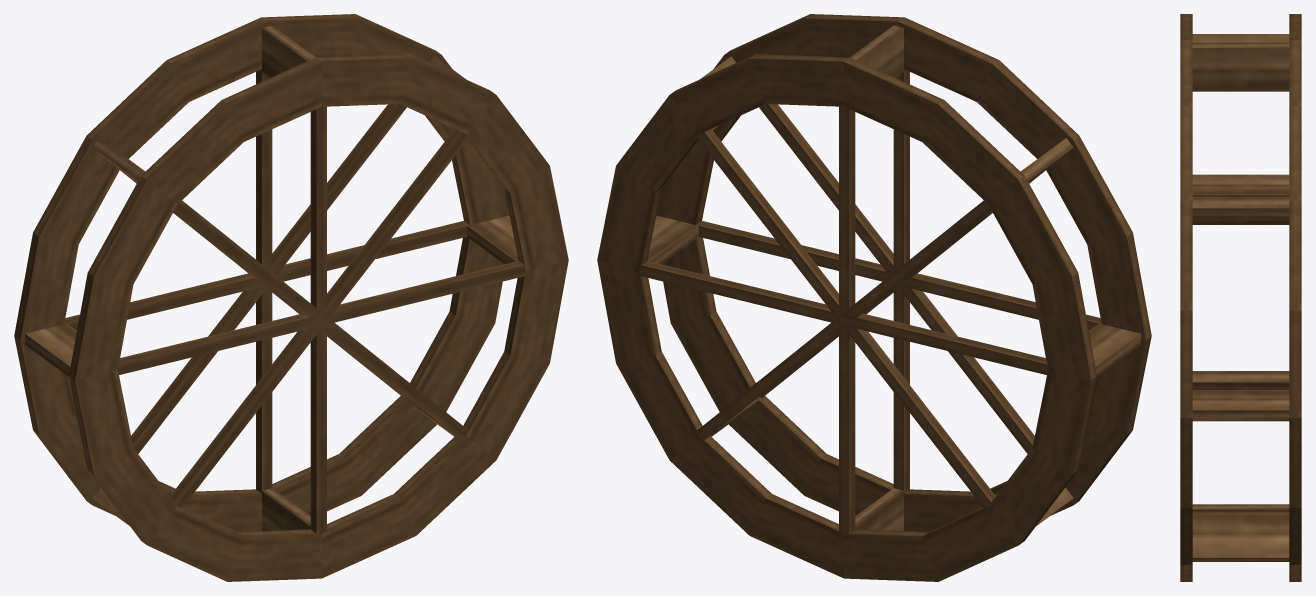
File: waterwheel.glb
The picture shows the model from 3 angles, left to right: view 1: azimuth 30°, elevation 25°; view 2: azimuth 150°, elevation 25°; view 3: azimuth 270°, elevation 25°; orthographic projection.
Parts seen in each view (by area): view 1: rim.009, rim.011, rim.006, rim.010, rim, rim.014, rim.005, rim.015, rim.012, rim.002, rim.004, rim.001 (+23 smaller); view 2: rim.010, rim.014, rim.004, rim.009, rim.001, rim.011, rim.008, rim.013, rim.007, rim.003, rim.006, rim (+23 smaller); view 3: blade, blade.002, blade.007, rim.007, rim.012, blade.004, blade.003, rim.013, rim.015, rim.004, rim.006, blade.005 (+6 smaller).
Part boxes in pixels (left/top/right/bottom): rim.009: left=69, top=176, right=177, bottom=380; rim.011: left=141, top=57, right=321, bottom=204; rim.006: left=463, top=260, right=568, bottom=459; rim.010: left=14, top=136, right=119, bottom=340; rim: left=322, top=436, right=496, bottom=578; rim.014: left=86, top=17, right=267, bottom=158; rim.005: left=69, top=370, right=177, bottom=545; rim.015: left=316, top=54, right=495, bottom=133; rim.012: left=466, top=95, right=568, bottom=270; rim.002: left=147, top=506, right=321, bottom=581; rim.004: left=410, top=237, right=503, bottom=411; rim.001: left=272, top=396, right=436, bottom=515; rim.010: left=988, top=176, right=1096, bottom=380; rim.014: left=844, top=57, right=1024, bottom=204; rim.004: left=597, top=260, right=702, bottom=459; rim.009: left=1046, top=136, right=1151, bottom=340; rim.001: left=669, top=436, right=843, bottom=578; rim.011: left=898, top=17, right=1079, bottom=158; rim.008: left=988, top=370, right=1096, bottom=545; rim.013: left=670, top=54, right=849, bottom=133; rim.007: left=597, top=95, right=699, bottom=270; rim.003: left=844, top=506, right=1018, bottom=581; rim.006: left=662, top=237, right=755, bottom=411; rim: left=729, top=396, right=893, bottom=515; blade: left=1192, top=512, right=1289, bottom=561; blade.002: left=1192, top=42, right=1289, bottom=91; blade.007: left=1192, top=390, right=1289, bottom=421; rim.007: left=1289, top=200, right=1301, bottom=417; rim.012: left=1180, top=200, right=1192, bottom=417; blade.004: left=1192, top=197, right=1289, bottom=224; blade.003: left=1192, top=174, right=1289, bottom=196; rim.013: left=1289, top=40, right=1301, bottom=200; rim.015: left=1180, top=40, right=1192, bottom=200; rim.004: left=1289, top=418, right=1301, bottom=564; rim.006: left=1180, top=418, right=1192, bottom=564; blade.005: left=1192, top=371, right=1289, bottom=389.
Bounding box in the file's own units: 5.86 × 5.86 × 1.25.
Materials: 1 (1 with a texture image).
